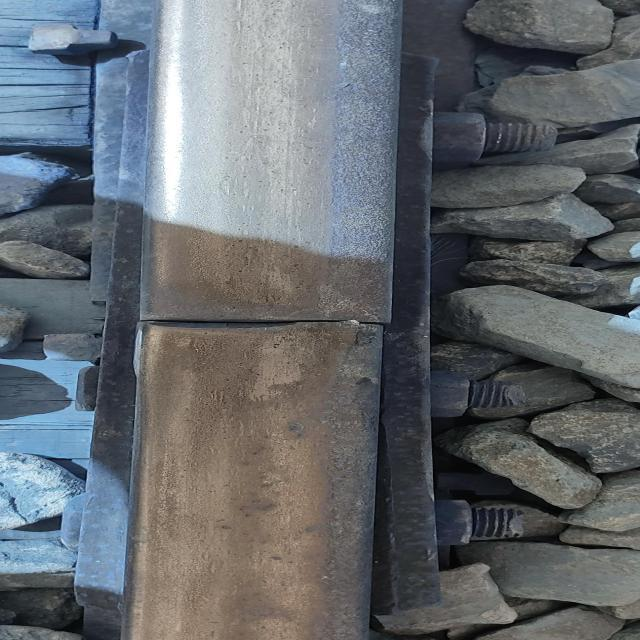Defective Joint: (25, 4, 593, 637)
Missing Dogscrew: (18, 13, 180, 161)
